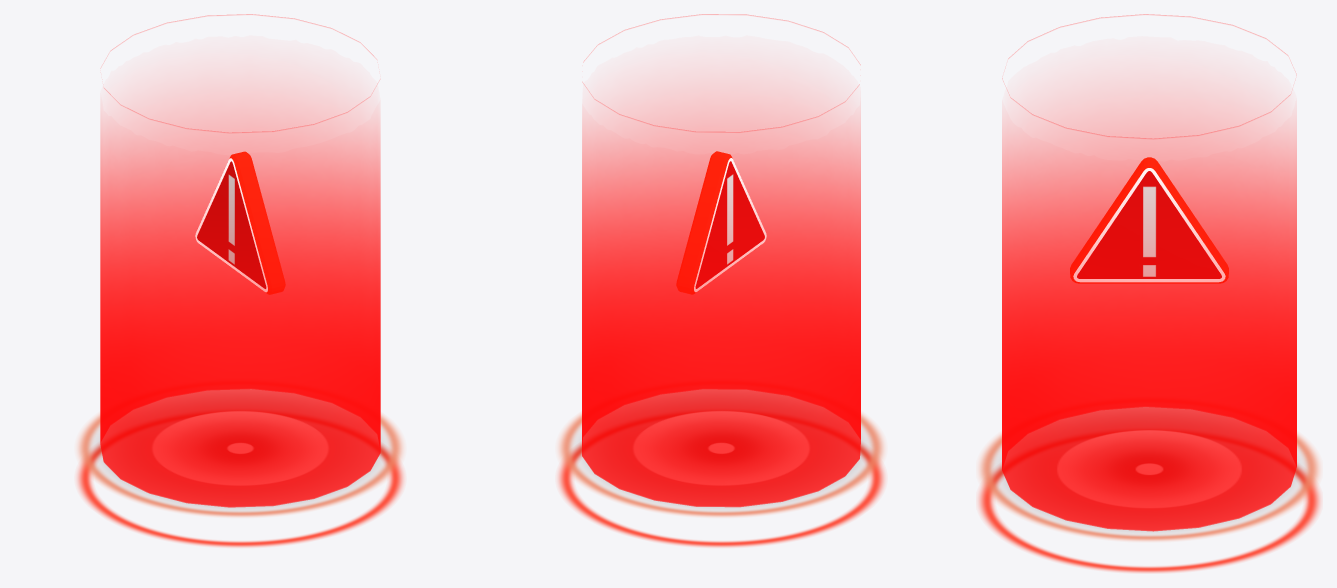
The model's file is warning_a.glb.
The picture shows the model from 3 angles, left to right: view 1: azimuth 30°, elevation 25°; view 2: azimuth 150°, elevation 25°; view 3: azimuth 270°, elevation 25°; orthographic projection. The views are drawn at different scales.
Parts seen in each view (by area): view 1: P04, P03, GTH, P02; view 2: P04, P03, GTH, P02; view 3: P04, P03, GTH, P02.
Part boxes in pixels (x1=…): P04: x1=100, y1=14, x2=380, y2=507; P03: x1=77, y1=410, x2=403, y2=516; GTH: x1=195, y1=151, x2=285, y2=294; P02: x1=77, y1=444, x2=403, y2=546; P04: x1=582, y1=14, x2=860, y2=507; P03: x1=558, y1=410, x2=884, y2=516; GTH: x1=676, y1=151, x2=766, y2=294; P02: x1=558, y1=443, x2=884, y2=546; P04: x1=1002, y1=14, x2=1296, y2=531; P03: x1=978, y1=428, x2=1320, y2=541; GTH: x1=1070, y1=157, x2=1228, y2=283; P02: x1=978, y1=465, x2=1320, y2=572.
Size of what is drawn, in the model's own units: 0.8 by 1.08 by 0.8.
Materials: 6 (4 with a texture image).
